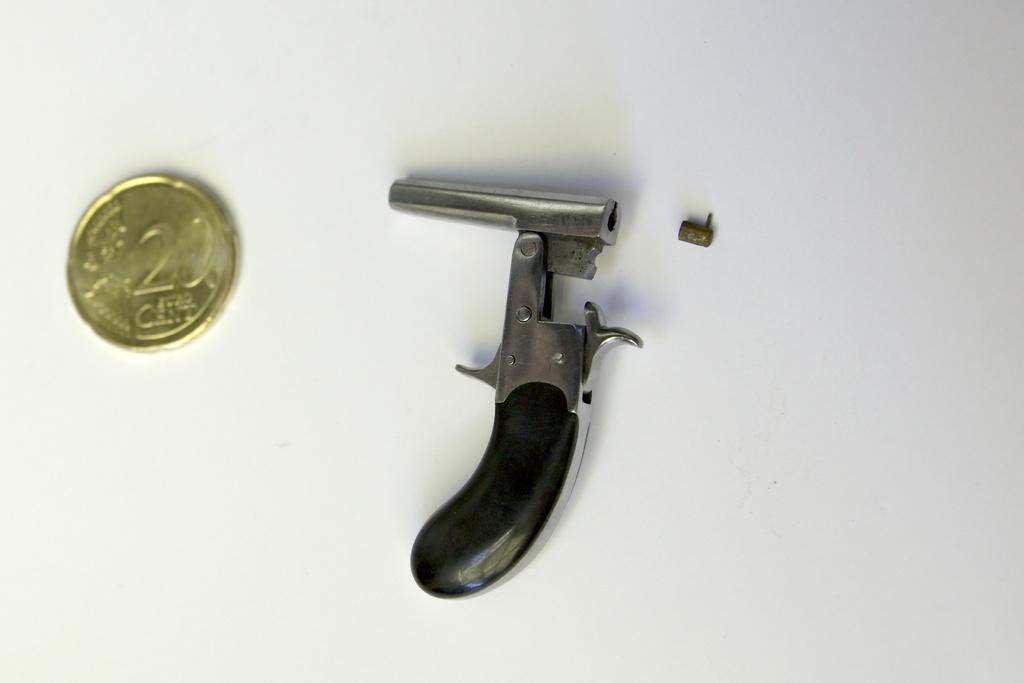weapon: (388, 175, 714, 604)
